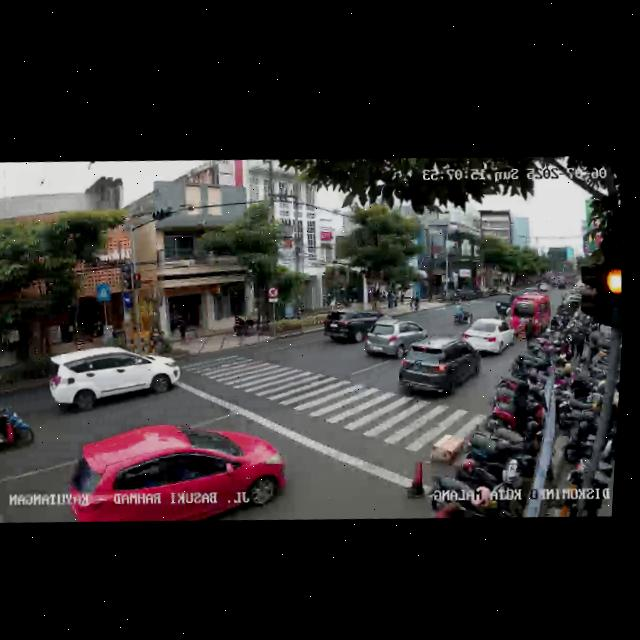car: (62, 409, 292, 534), (40, 336, 178, 423), (393, 333, 484, 404), (360, 313, 433, 365), (458, 314, 517, 360), (321, 304, 381, 347), (507, 290, 554, 341), (493, 294, 511, 319)
motorcycle: (0, 396, 41, 458), (449, 300, 471, 327)
